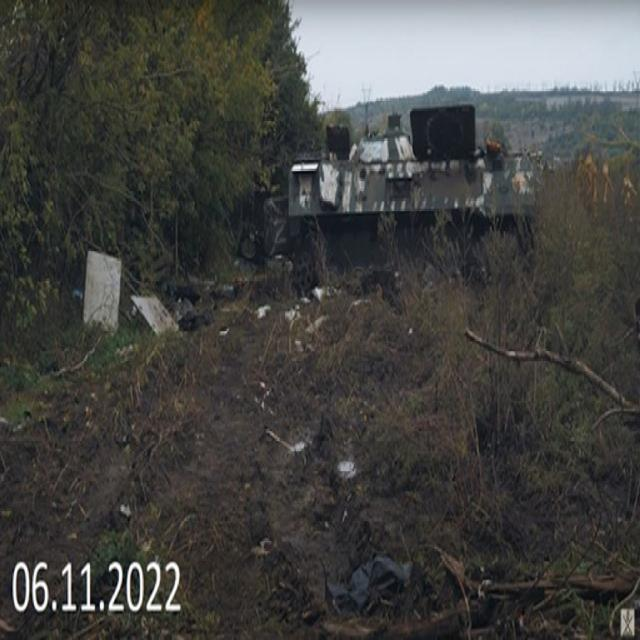APC-IFV: (280, 109, 552, 320)
